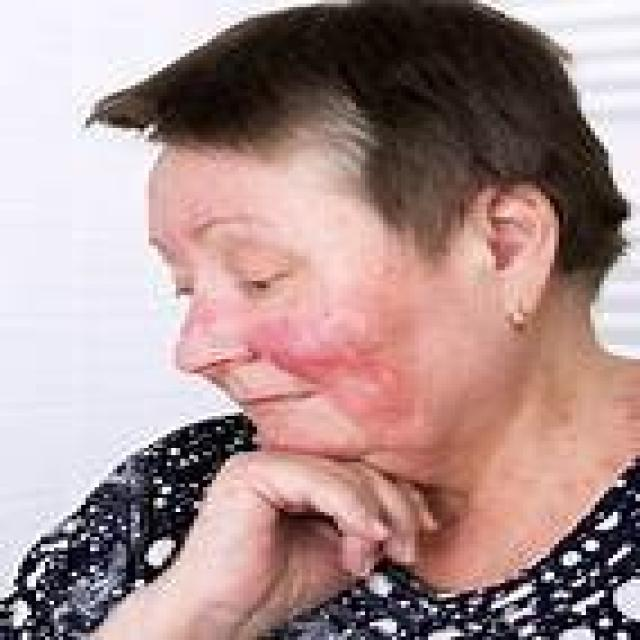pigmentation: (268, 326, 408, 411)
